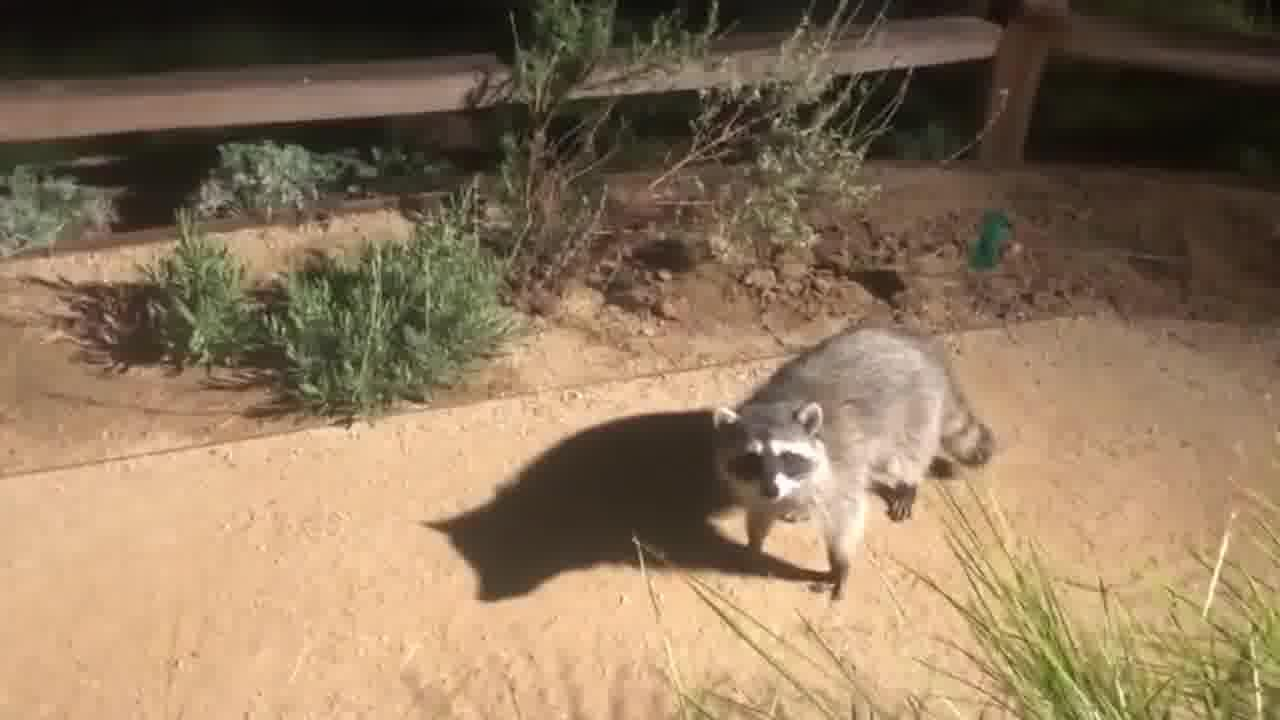raccoon: (699, 310, 1003, 609)
